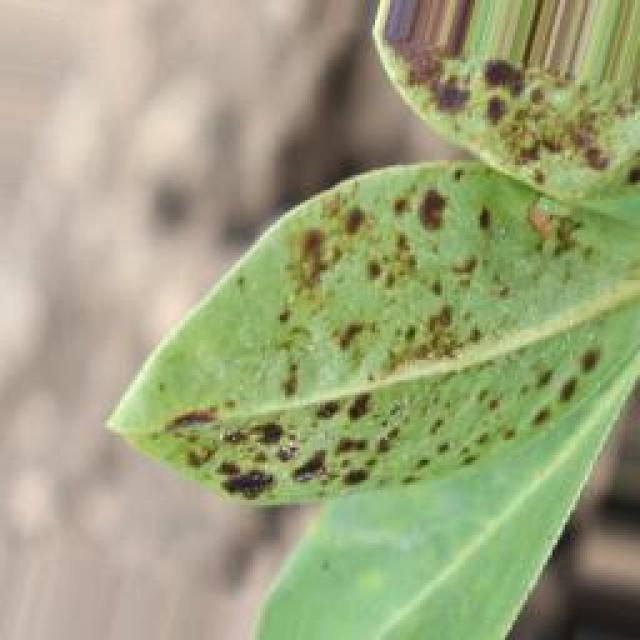Whitefly: (115, 0, 636, 532)
